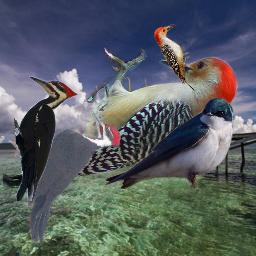Swallow: (103, 97, 235, 189)
Woodpecker: (3, 46, 241, 195), (7, 111, 123, 245), (14, 75, 81, 201), (154, 23, 196, 93)
